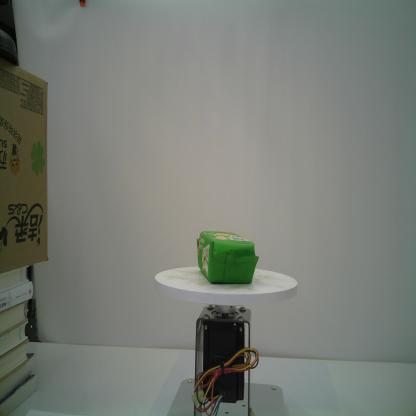Dessert: (194, 230, 261, 286)
